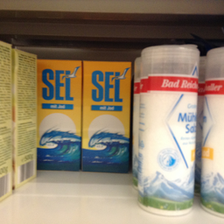spicesw: (135, 43, 200, 217), (83, 60, 132, 174), (36, 59, 82, 171)
